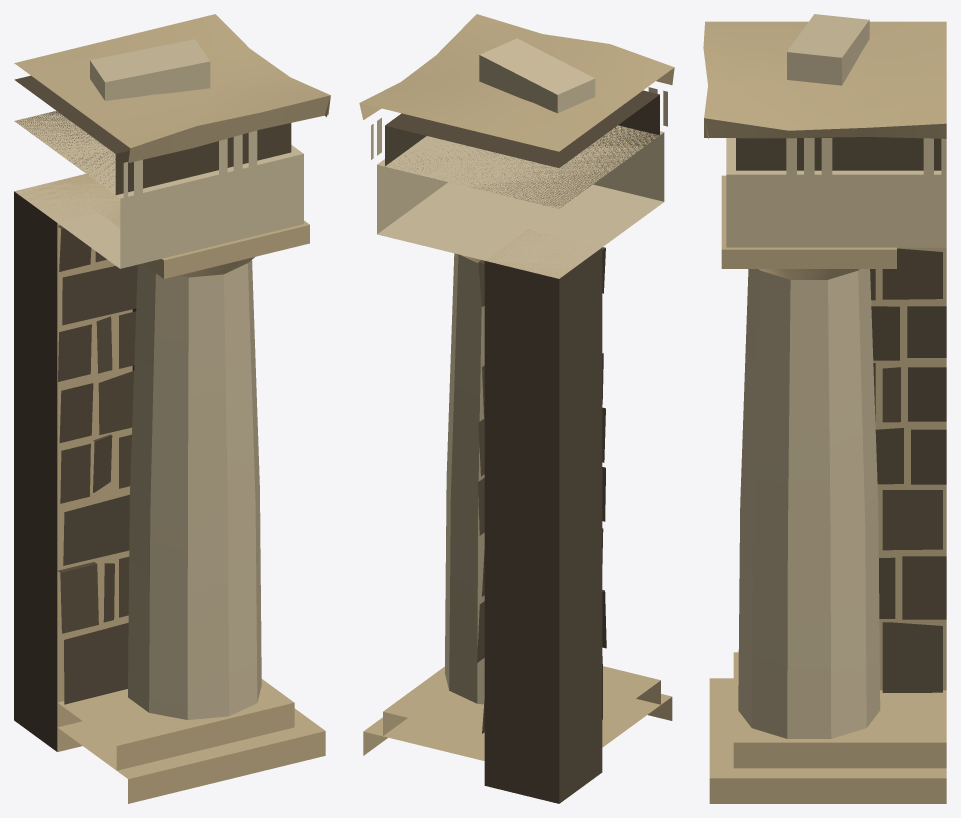
The model's file is temple-outer.glb.
3 renders of one model, left to right at view 1: azimuth 30°, elevation 25°; view 2: azimuth 150°, elevation 25°; view 3: azimuth 270°, elevation 25°, orthographic. The views are drawn at different scales.
Parts seen in each view (by area): view 1: temple-outer; view 2: temple-outer; view 3: temple-outer.
Boxes of the visible parts, x1,y1,x2,y2 form: temple-outer: [14, 14, 330, 803]; temple-outer: [359, 14, 674, 803]; temple-outer: [703, 14, 946, 803].
Bounding box in the file's own units: 1.02 × 3.32 × 1.03.
